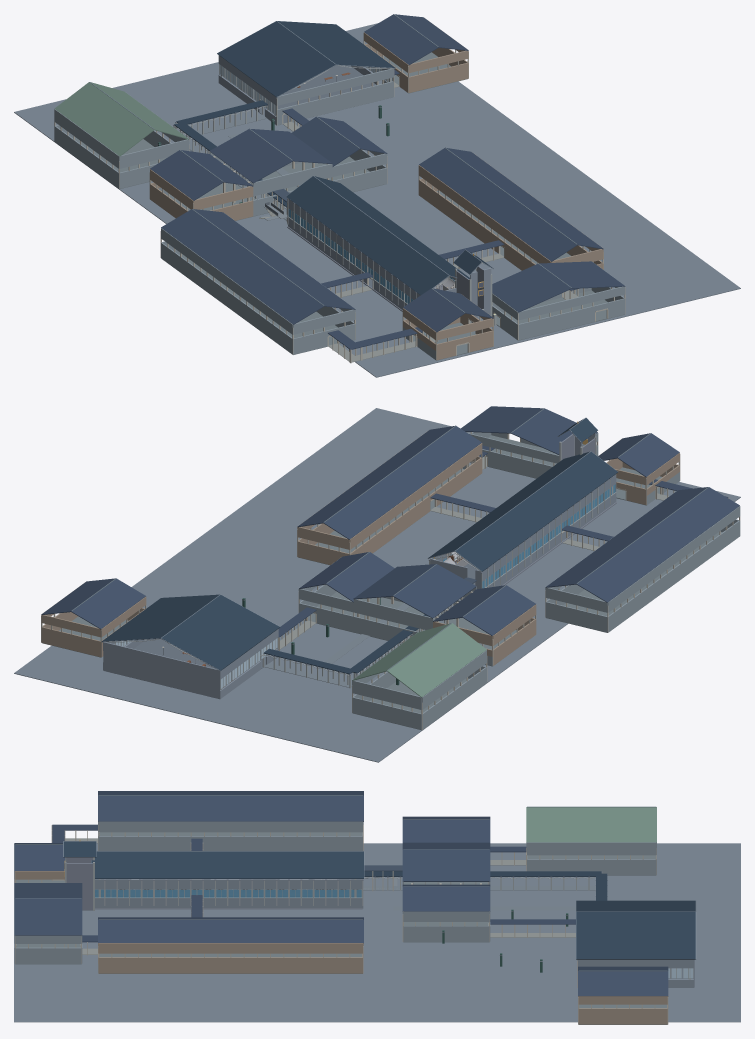
File: lahudi-academy_LOCKED-PLAN-ACCESS-V10.glb
The picture shows the model from 3 angles, top to bottom: view 1: azimuth 30°, elevation 25°; view 2: azimuth 150°, elevation 25°; view 3: azimuth 270°, elevation 25°; orthographic projection.
Parts seen in each view (by area): view 1: RG-GAME-02-EXTERIOR-REBUILD-V5__winter_campus_snowbase, RG-GAME-02-EXTERIOR-REBUILD-V5__academic_high_gable_slate_ro (×2), RG-GAME-02-EXTERIOR-REBUILD-V5__library_high_gable_slate_roo (×2), RG-GAME-02-PLAN-LOCK-V9__B_WEST_side_0, RG-GAME-02-PLAN-LOCK-V9__C_EAST_side_0, RG-GAME-02-PLAN-LOCK-V9__G_ASSEMBLY_side_0, RG-GAME-02-PLAN-LOCK-V9__B_WEST_side_1, RG-GAME-02-PLAN-LOCK-V9__B_WEST_west_wall_band_-68.00_24.00 (×2), RG-GAME-02-PLAN-LOCK-V9__C_EAST_west_wall_band_-68.00_24.00 (×2), RG-GAME-02-PLAN-LOCK-V9__E_CENTER_HALL_side_0, RG-GAME-02-PLAN-LOCK-V9__D_EAST_ENTRY_side_0, RG-GAME-02-PLAN-LOCK-V9__C_EAST_side_1 (+26 smaller); view 2: RG-GAME-02-EXTERIOR-REBUILD-V5__winter_campus_snowbase, RG-GAME-02-EXTERIOR-REBUILD-V5__academic_high_gable_slate_ro (×2), RG-GAME-02-EXTERIOR-REBUILD-V5__library_high_gable_slate_roo (×2), RG-GAME-02-PLAN-LOCK-V9__B_WEST_side_0, RG-GAME-02-PLAN-LOCK-V9__C_EAST_side_0, RG-GAME-02-EXTERIOR-REBUILD-V5__library_endwall_north, RG-GAME-02-PLAN-LOCK-V9__G_ASSEMBLY_side_0, RG-GAME-02-PLAN-LOCK-V9__B_WEST_side_1, RG-GAME-02-PLAN-LOCK-V9__B_WEST_west_wall_band_-68.00_24.00 (×2), RG-GAME-02-PLAN-LOCK-V9__C_EAST_west_wall_band_-68.00_24.00 (×2), RG-GAME-02-PLAN-LOCK-V9__E_CENTER_HALL_side_0, RG-GAME-02-PLAN-LOCK-V9__C_EAST_side_1 (+30 smaller); view 3: RG-GAME-02-EXTERIOR-REBUILD-V5__winter_campus_snowbase, RG-GAME-02-EXTERIOR-REBUILD-V5__academic_high_gable_slate_ro, RG-GAME-02-EXTERIOR-REBUILD-V5__library_high_gable_slate_roo (×2), RG-GAME-02-PLAN-LOCK-V9__B_WEST_side_1, RG-GAME-02-PLAN-LOCK-V9__C_EAST_side_1, RG-GAME-02-PLAN-LOCK-V9__C_EAST_east_wall_band_-68.00_24.00 (×2), RG-GAME-02-PLAN-LOCK-V9__B_WEST_east_wall_band_-68.00_24.00 (×2), RG-GAME-02-PLAN-LOCK-V9__G_ASSEMBLY_side_1, RG-GAME-02-PLAN-LOCK-V9__E_CENTER_HALL_side_1, RG-GAME-02-PLAN-LOCK-V9__G_ASSEMBLY_east_wall_band_-170.00_- (×2), RG-GAME-02-PLAN-LOCK-V9__C_EAST_east_low_wall_-68.00_24.00, RG-GAME-02-PLAN-LOCK-V9__D_EAST_ENTRY_side_1 (+31 smaller).
Part boxes in pixels (x1,y1,x2,y2): RG-GAME-02-EXTERIOR-REBUILD-V5__winter_campus_snowbase: (14,23,740,377); RG-GAME-02-EXTERIOR-REBUILD-V5__academic_high_gable_slate_ro (×2): (286,176,469,295); RG-GAME-02-EXTERIOR-REBUILD-V5__library_high_gable_slate_roo (×2): (217,21,395,97); RG-GAME-02-PLAN-LOCK-V9__B_WEST_side_0: (161,209,324,324); RG-GAME-02-PLAN-LOCK-V9__C_EAST_side_0: (419,148,577,261); RG-GAME-02-PLAN-LOCK-V9__G_ASSEMBLY_side_0: (54,82,154,156); RG-GAME-02-PLAN-LOCK-V9__B_WEST_side_1: (193,209,355,309); RG-GAME-02-PLAN-LOCK-V9__B_WEST_west_wall_band_-68.00_24.00 (×2): (161,228,292,344); RG-GAME-02-PLAN-LOCK-V9__C_EAST_west_wall_band_-68.00_24.00 (×2): (418,165,550,266); RG-GAME-02-PLAN-LOCK-V9__E_CENTER_HALL_side_0: (210,129,292,183); RG-GAME-02-PLAN-LOCK-V9__D_EAST_ENTRY_side_0: (492,264,571,312); RG-GAME-02-PLAN-LOCK-V9__C_EAST_side_1: (445,147,603,249); RG-GAME-02-EXTERIOR-REBUILD-V5__winter_campus_snowbase: (14,408,740,762); RG-GAME-02-EXTERIOR-REBUILD-V5__academic_high_gable_slate_ro (×2): (428,451,617,571); RG-GAME-02-EXTERIOR-REBUILD-V5__library_high_gable_slate_roo (×2): (102,594,279,670); RG-GAME-02-PLAN-LOCK-V9__B_WEST_side_0: (576,487,739,602); RG-GAME-02-PLAN-LOCK-V9__C_EAST_side_0: (323,426,481,539); RG-GAME-02-EXTERIOR-REBUILD-V5__library_endwall_north: (103,642,220,698); RG-GAME-02-PLAN-LOCK-V9__G_ASSEMBLY_side_0: (387,623,486,697); RG-GAME-02-PLAN-LOCK-V9__B_WEST_side_1: (545,487,707,587); RG-GAME-02-PLAN-LOCK-V9__B_WEST_west_wall_band_-68.00_24.00 (×2): (608,506,740,623); RG-GAME-02-PLAN-LOCK-V9__C_EAST_west_wall_band_-68.00_24.00 (×2): (350,443,482,554); RG-GAME-02-PLAN-LOCK-V9__E_CENTER_HALL_side_0: (393,564,476,618); RG-GAME-02-PLAN-LOCK-V9__C_EAST_side_1: (297,425,455,527); RG-GAME-02-EXTERIOR-REBUILD-V5__winter_campus_snowbase: (14,843,740,1022); RG-GAME-02-EXTERIOR-REBUILD-V5__academic_high_gable_slate_ro: (91,851,363,878); RG-GAME-02-EXTERIOR-REBUILD-V5__library_high_gable_slate_roo (×2): (576,900,695,959); RG-GAME-02-PLAN-LOCK-V9__B_WEST_side_1: (98,795,363,821); RG-GAME-02-PLAN-LOCK-V9__C_EAST_side_1: (98,919,363,942); RG-GAME-02-PLAN-LOCK-V9__C_EAST_east_wall_band_-68.00_24.00 (×2): (98,943,362,964); RG-GAME-02-PLAN-LOCK-V9__B_WEST_east_wall_band_-68.00_24.00 (×2): (98,821,362,842); RG-GAME-02-PLAN-LOCK-V9__G_ASSEMBLY_side_1: (526,807,656,842); RG-GAME-02-PLAN-LOCK-V9__E_CENTER_HALL_side_1: (402,849,490,881); RG-GAME-02-PLAN-LOCK-V9__G_ASSEMBLY_east_wall_band_-170.00_- (×2): (527,842,656,865); RG-GAME-02-PLAN-LOCK-V9__C_EAST_east_low_wall_-68.00_24.00: (98,964,362,973); RG-GAME-02-PLAN-LOCK-V9__D_EAST_ENTRY_side_1: (14,898,82,935).
Bounding box in the file's own units: 167 × 26.24 × 253.
